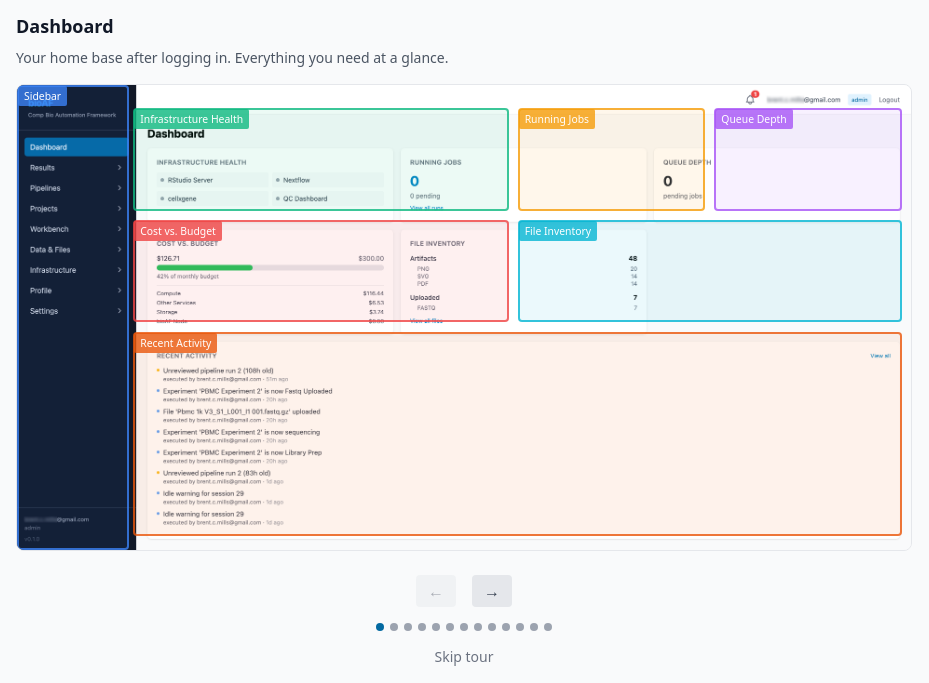
Test: GettingStarted › does not render highlights on slides without them
Click the button named "Next slide".
click(492, 591)  # box [472,575,512,607]
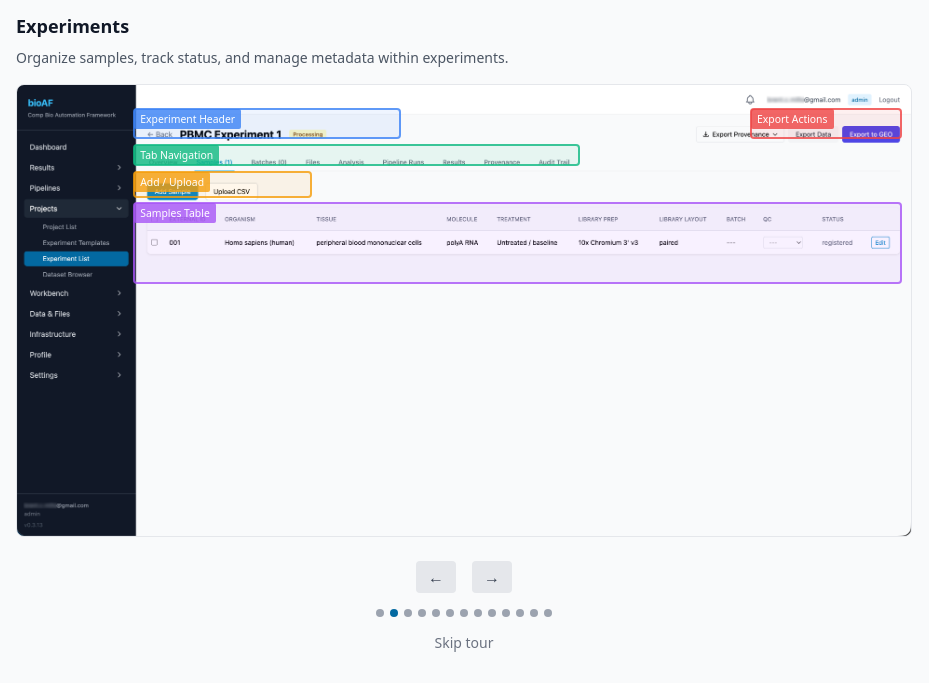
Click the button named "Next slide".
click(492, 577)  # box [472,561,512,593]
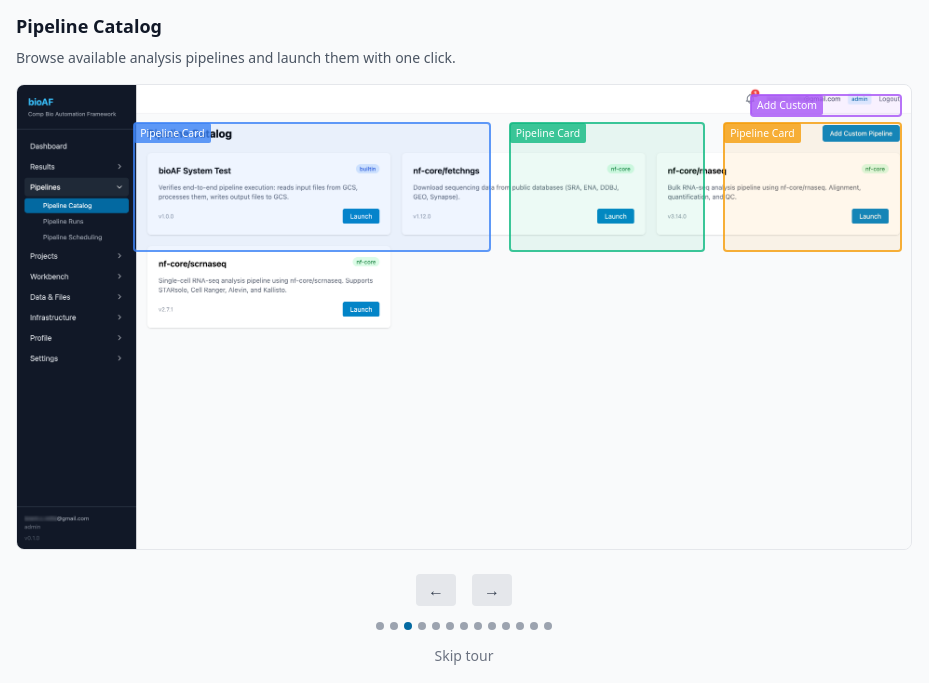
Click the button named "Next slide".
click(492, 590)  # box [472,574,512,606]
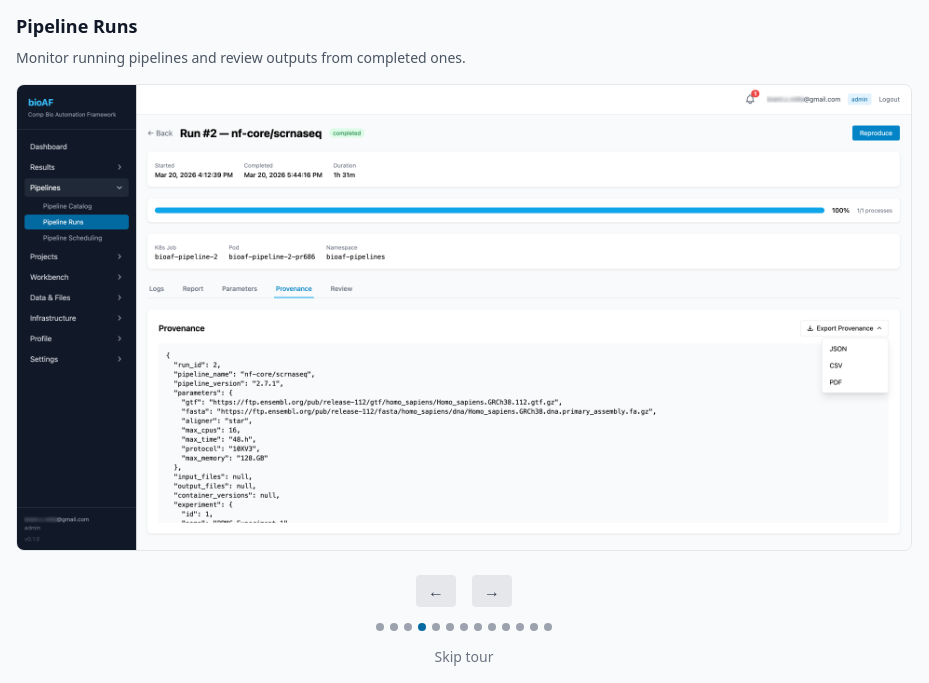
Now the heading "Pipeline Runs" is shown, box [16,14,137,38]
Now no elements with test id "highlight" are shown
